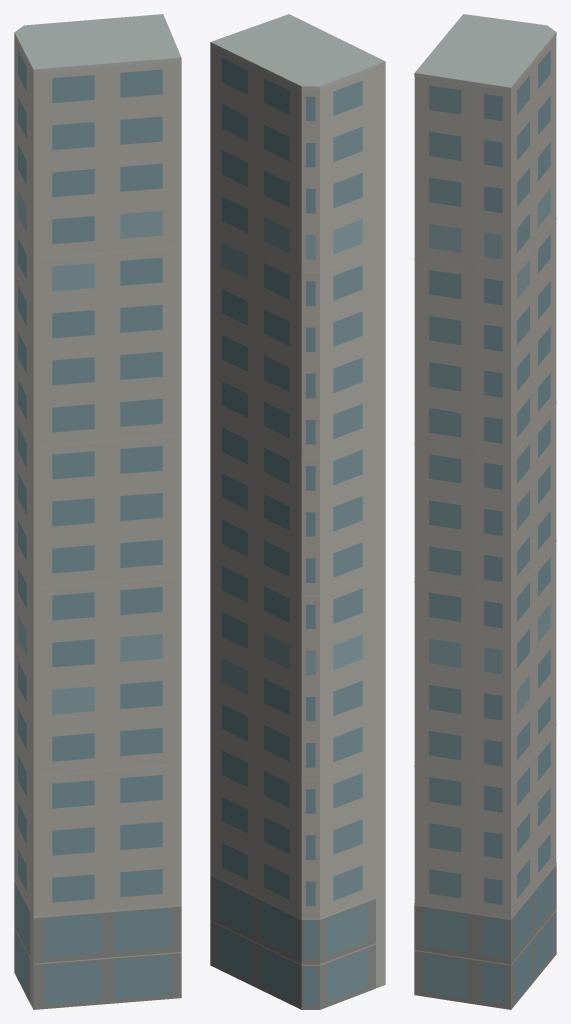
Rendered from survey-upis-32518221.glb.
The picture shows the model from 3 angles, left to right: view 1: azimuth 30°, elevation 25°; view 2: azimuth 150°, elevation 25°; view 3: azimuth 270°, elevation 25°; orthographic projection.
Visible parts, largest first — view 1: survey-upis-32518221.tmp; view 2: survey-upis-32518221.tmp; view 3: survey-upis-32518221.tmp.
Boxes of the visible parts, x1,y1,x2,y2 form: survey-upis-32518221.tmp: [14, 14, 181, 1009]; survey-upis-32518221.tmp: [210, 14, 385, 1009]; survey-upis-32518221.tmp: [414, 14, 556, 1009].
Size of the model in its own units: 10.48 by 61 by 8.54.
